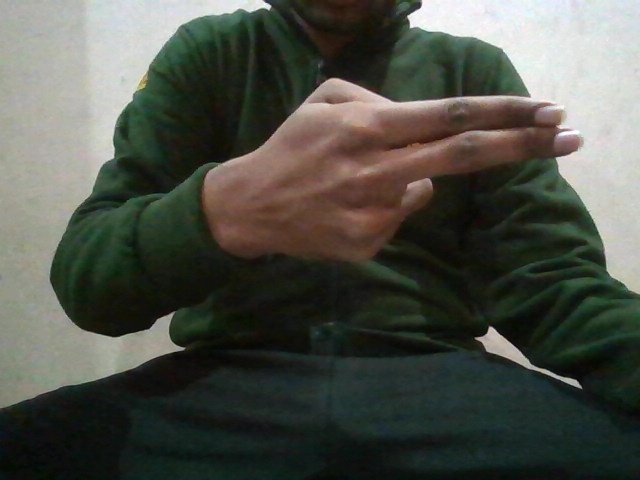H: (209, 76, 591, 261)
